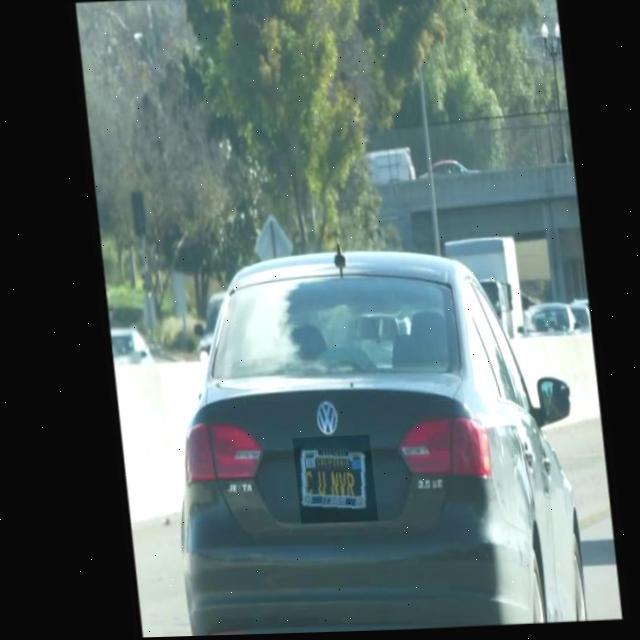LicensePlate: (283, 436, 368, 526)
